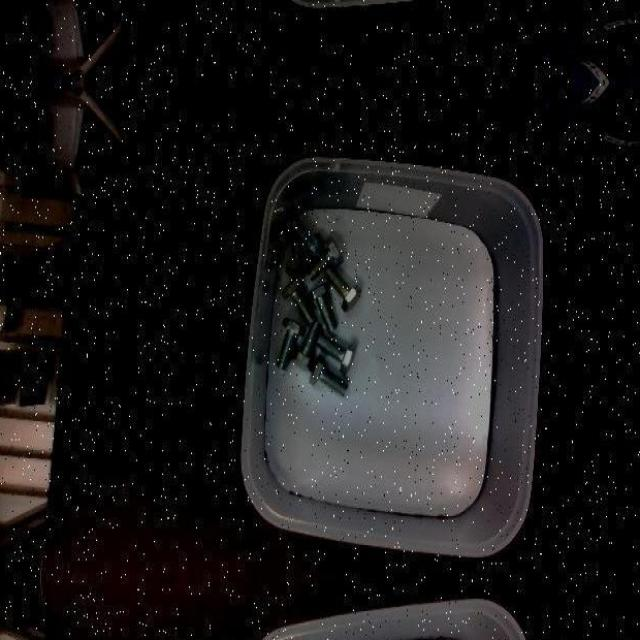screw: (281, 274, 316, 326), (287, 214, 324, 262), (324, 263, 361, 311), (316, 332, 356, 376), (306, 236, 344, 282), (309, 353, 348, 396), (306, 281, 338, 333), (290, 320, 322, 371), (276, 317, 306, 369)
